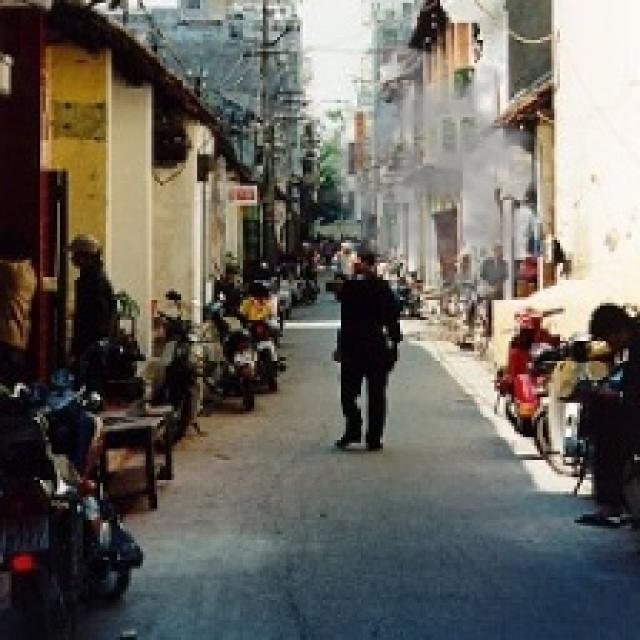Smoke: (317, 42, 574, 308)
